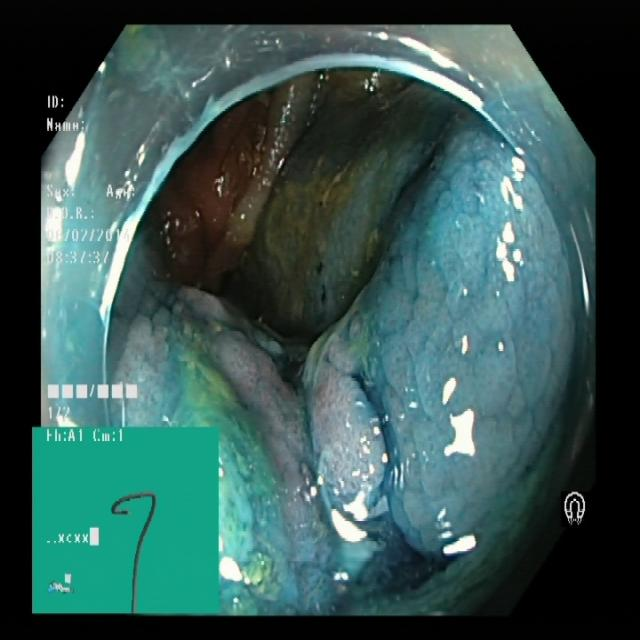dyed-lifted-polyps: (102, 105, 591, 615)
